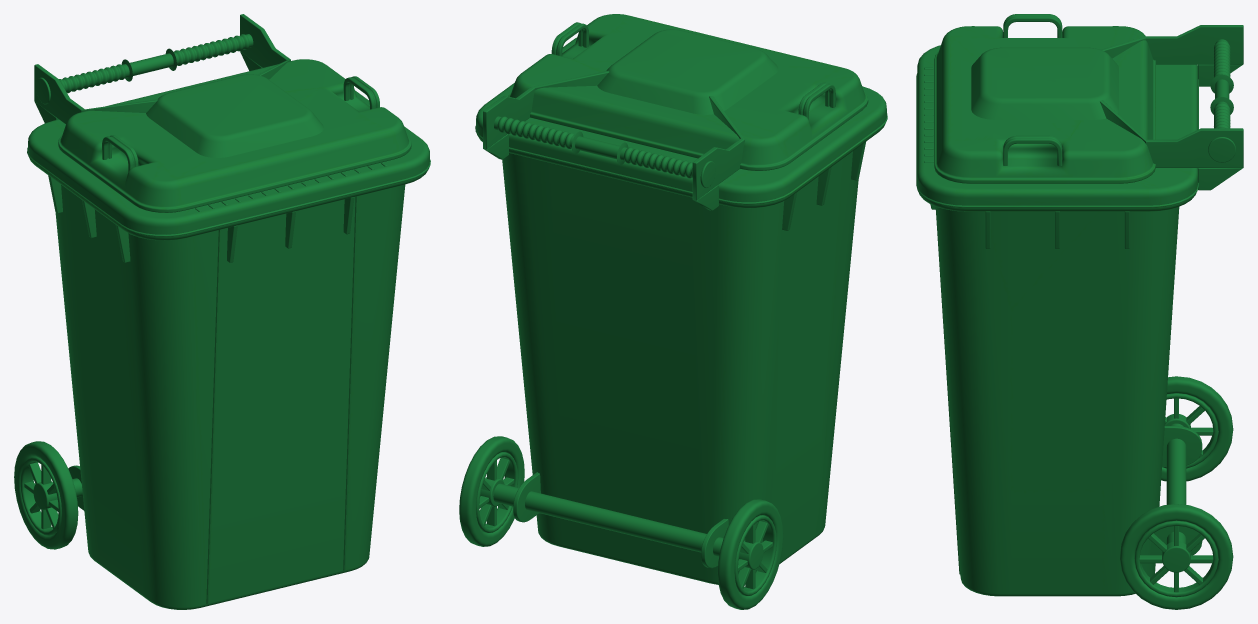
The model's file is bin2.fbx.
The picture shows the model from 3 angles, left to right: view 1: azimuth 30°, elevation 25°; view 2: azimuth 150°, elevation 25°; view 3: azimuth 270°, elevation 25°; orthographic projection. The views are drawn at different scales.
Visible parts, largest first — view 1: node_id59, node_id61, node_id7, node_id57, node_id43, node_id15, node_id49, node_id53, node_id17, node_id35, node_id19, node_id63 (+2 smaller); view 2: node_id59, node_id61, node_id7, node_id57, node_id25, node_id43, node_id15, node_id31, node_id53, node_id49, node_id17, node_id35 (+8 smaller); view 3: node_id59, node_id61, node_id7, node_id57, node_id31, node_id53, node_id49, node_id15, node_id43, node_id29, node_id25, node_id23 (+10 smaller).
Part boxes in pixels (x1,y1,x2,y2): node_id59: (55,184,405,609); node_id61: (58,59,411,212); node_id7: (27,90,430,240); node_id57: (146,74,323,157); node_id43: (59,34,253,93); node_id15: (14,441,78,549); node_id49: (240,14,289,67); node_id53: (34,64,84,123); node_id17: (20,456,61,535); node_id35: (48,175,130,262); node_id19: (24,462,58,533); node_id63: (227,197,354,262); node_id59: (502,151,858,584); node_id61: (508,14,868,170); node_id7: (475,37,887,208); node_id57: (597,29,778,114); node_id25: (493,483,723,556); node_id43: (494,116,692,178); node_id15: (717,499,783,609); node_id31: (459,436,524,546); node_id53: (692,138,744,200); node_id49: (483,87,534,149); node_id17: (734,515,776,595); node_id35: (782,141,866,230); node_id59: (935,206,1179,596); node_id61: (934,26,1155,183); node_id7: (916,45,1198,211); node_id57: (971,47,1118,119); node_id31: (1120,504,1233,609); node_id53: (1146,25,1243,64); node_id49: (1146,128,1243,167); node_id15: (1161,376,1233,481); node_id43: (1210,39,1233,128); node_id29: (1134,520,1218,597); node_id25: (1166,423,1186,544); node_id23: (1134,526,1218,592).
Size of the model in its own units: 0.3503 by 0.5038 by 0.3172.
Materials: 30 (30 with a texture image).
